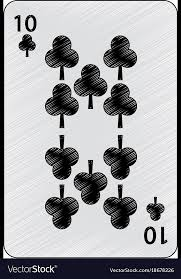ten of clubs: (3, 1, 179, 256)
